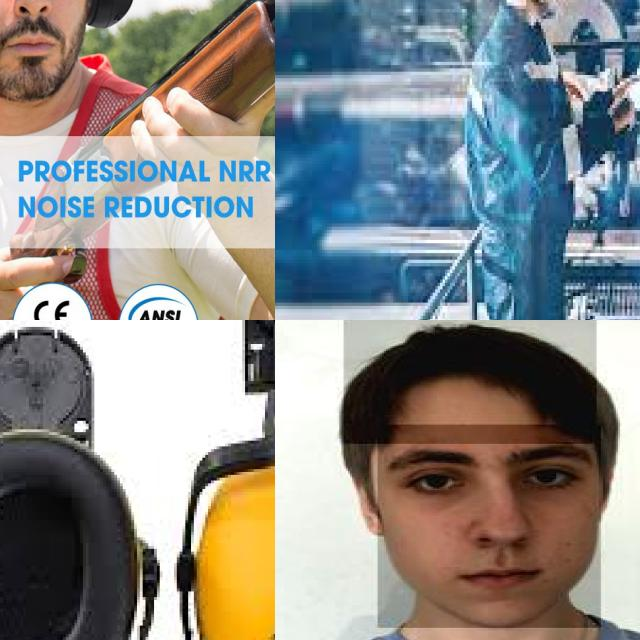Ear-protection: (0, 337, 155, 640), (0, 0, 156, 133), (191, 432, 275, 640)
No_Glasses: (384, 437, 597, 510)
face_nomask: (377, 424, 601, 628)
head_nohelmet: (343, 320, 596, 443)
person: (275, 320, 640, 640), (461, 0, 636, 320)
